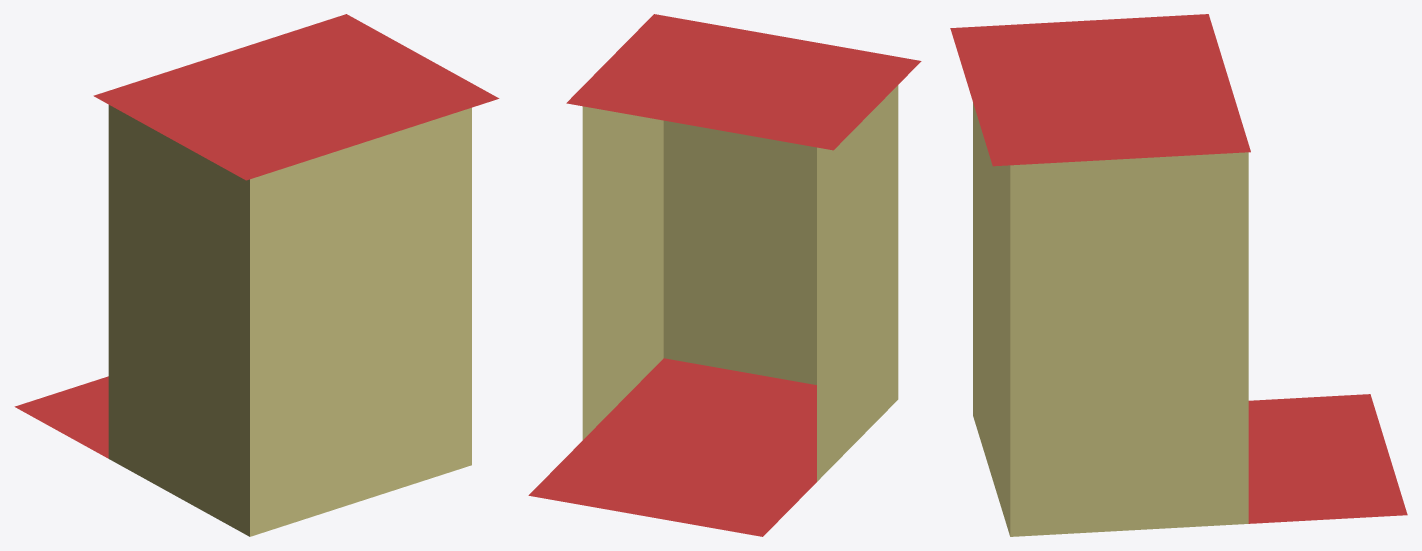
The picture shows the model from 3 angles, left to right: view 1: azimuth 30°, elevation 25°; view 2: azimuth 150°, elevation 25°; view 3: azimuth 270°, elevation 25°; orthographic projection. The views are drawn at different scales.
Size of the model in its own units: 4.45 by 5.64 by 5.17.
